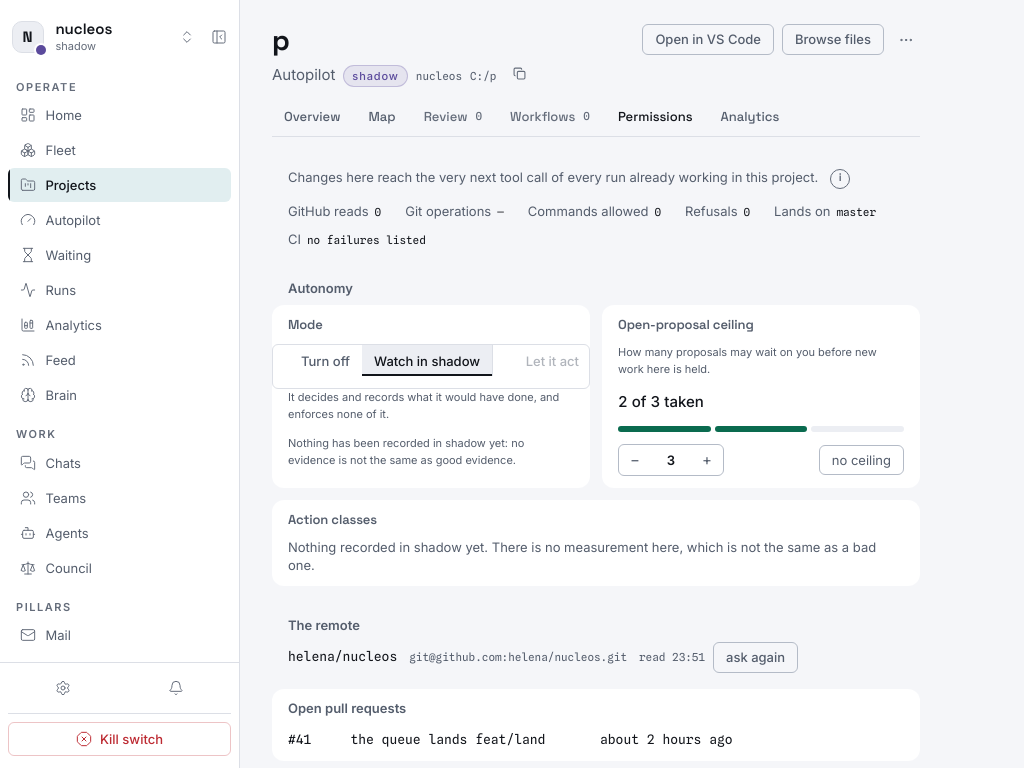
Test: the settings this app authors › says what the ceiling is holding, and clears it without setting it to zero
Expected: the text "2 of 3 taken" is shown, x1=618 y1=392 x2=704 y2=411
Click the button "no ceiling".
click(861, 460)  # box x1=819 y1=445 x2=904 y2=475
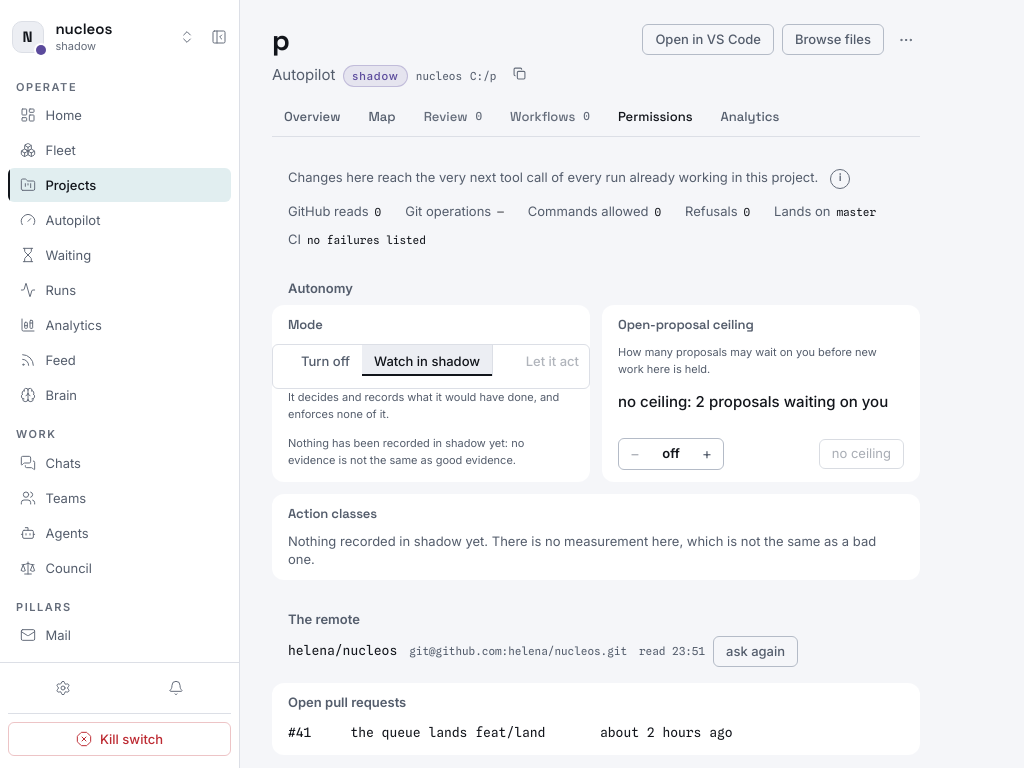
Expected: the text "no ceiling: 2 proposals waiting on you" is shown, x1=618 y1=392 x2=888 y2=411
